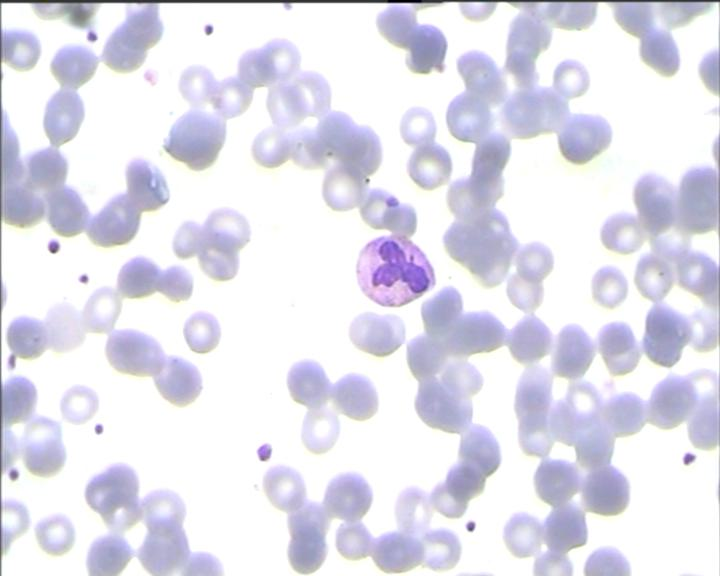neut: (354, 234, 437, 310)
